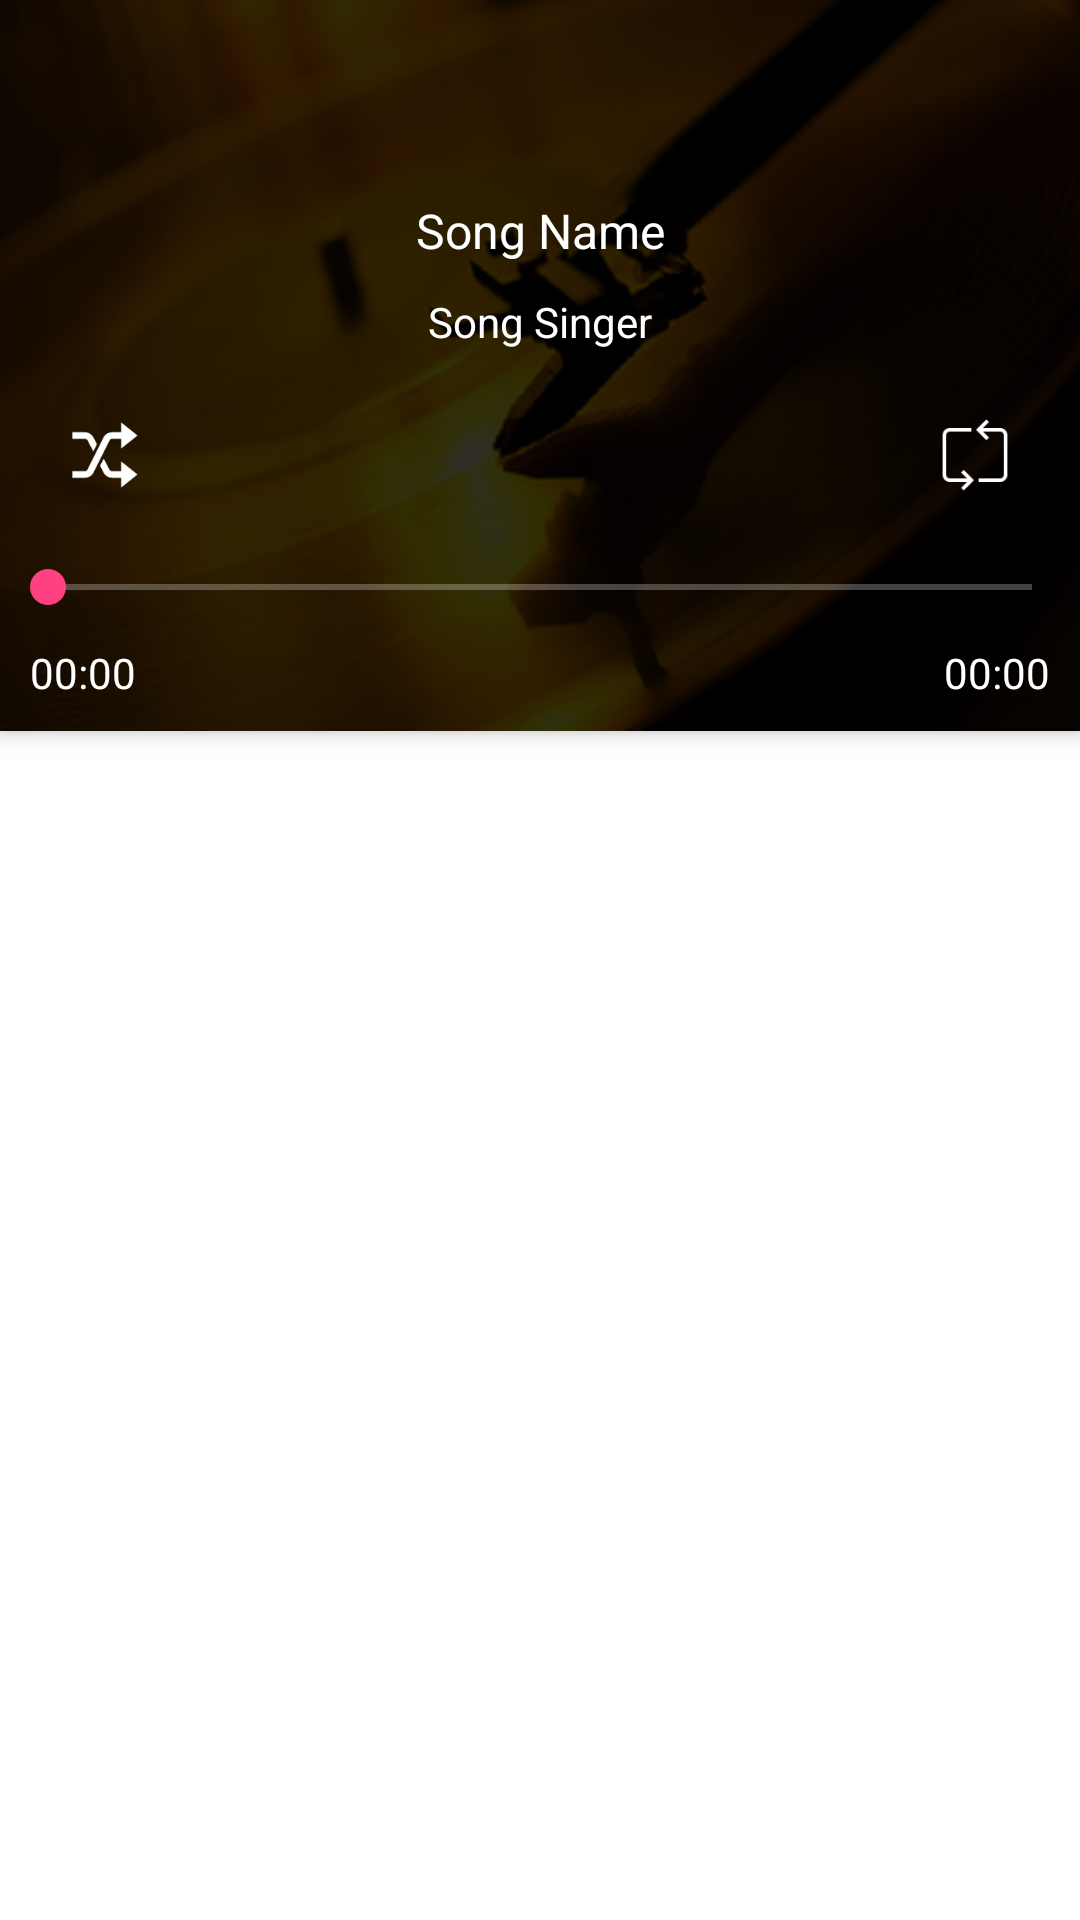

Where icons sit on this 1080x1920 app screen, as (x1,y1,x2,y2):
repeat off: (942,419,1008,491)
shuffle off: (72,422,138,488)
